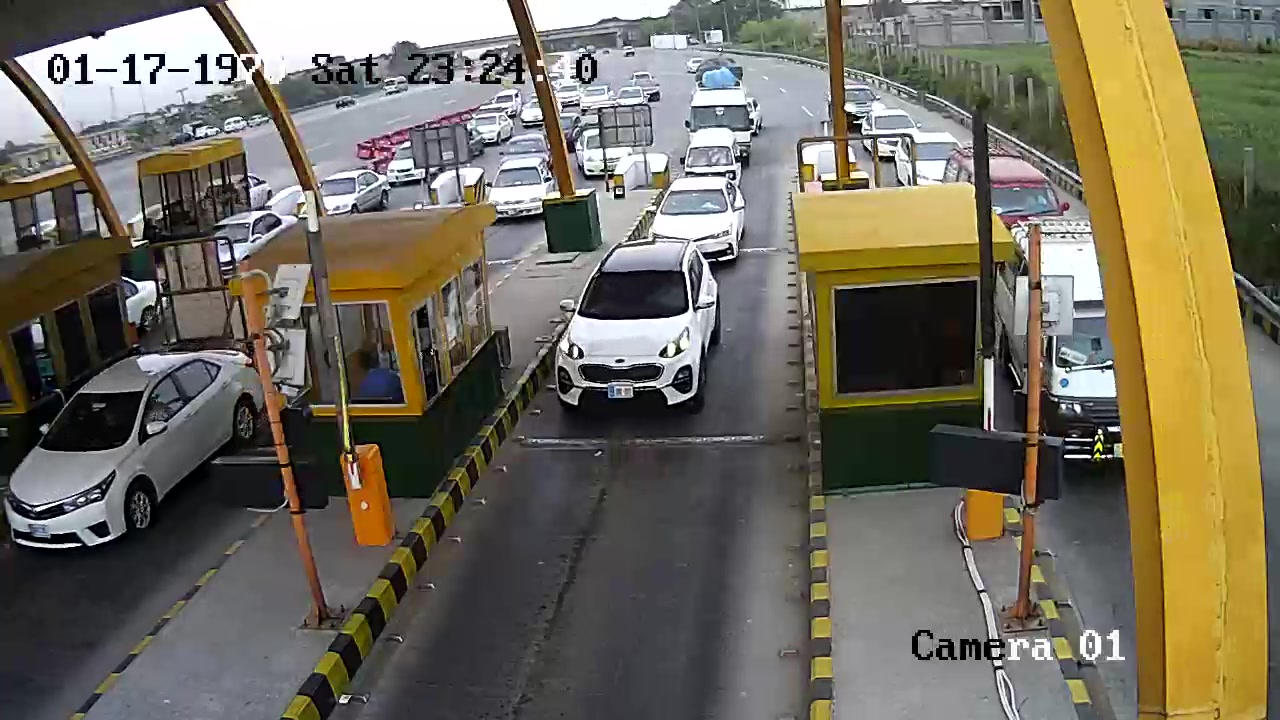F1: (546, 235, 729, 439)
